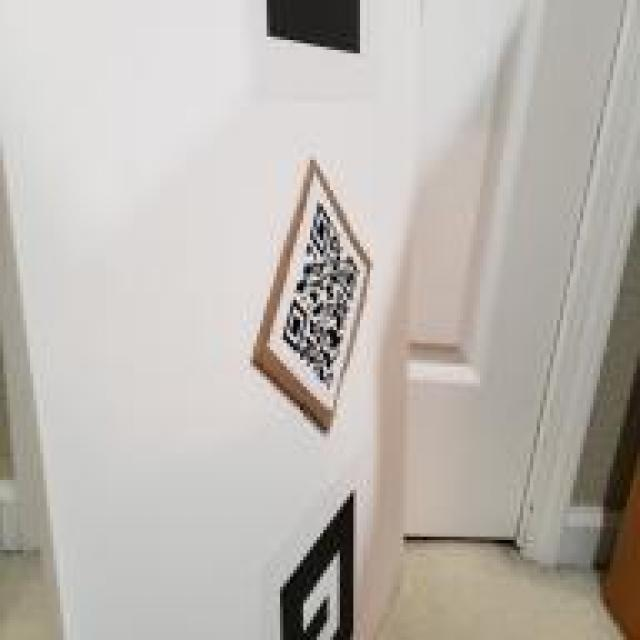qr_code: (283, 202, 360, 390)
